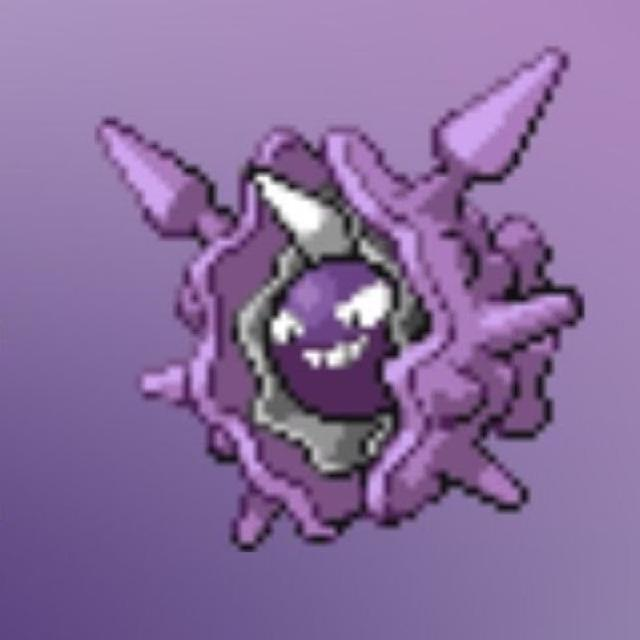Cloyster: (128, 94, 570, 534)
